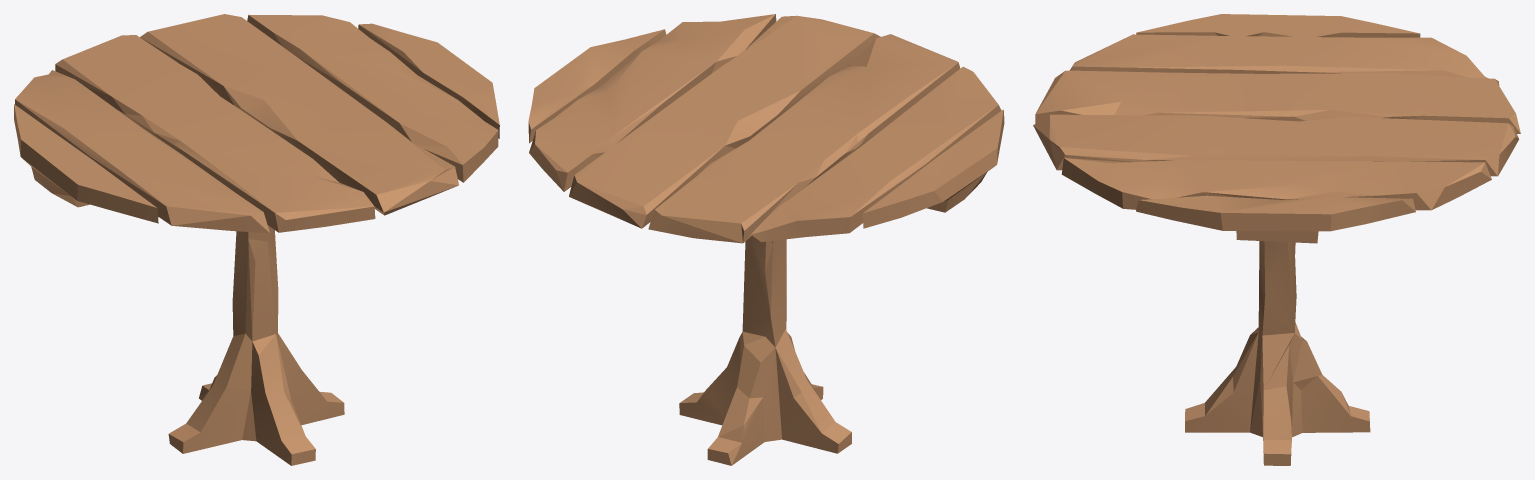
File: table1Shabby.fbx
3 renders of one model, left to right at view 1: azimuth 30°, elevation 25°; view 2: azimuth 150°, elevation 25°; view 3: azimuth 270°, elevation 25°, orthographic.
Parts seen in each view (by area): view 1: table1Shabby; view 2: table1Shabby; view 3: table1Shabby.
Boxes of the visible parts, <box> form: table1Shabby: <box>14,14,499,465</box>; table1Shabby: <box>528,14,1004,465</box>; table1Shabby: <box>1033,14,1520,465</box>.
Bounding box in the file's own units: 156 × 115 × 160.
Materials: 1 (1 with a texture image).
